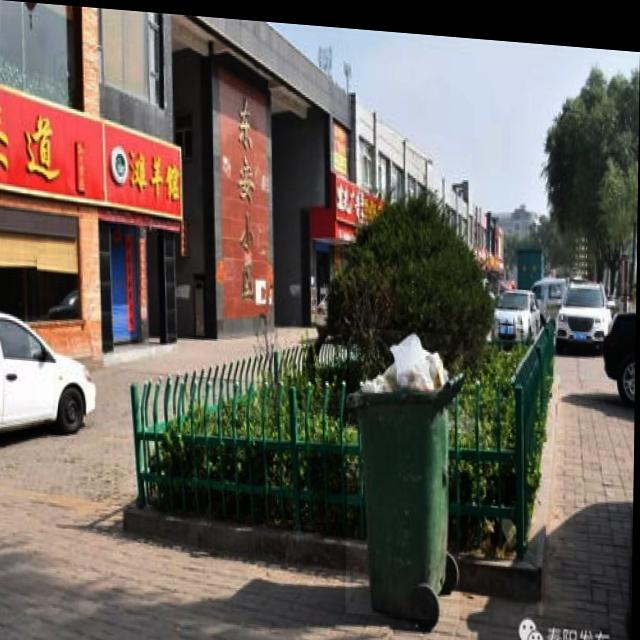overflow: (347, 321, 465, 615)
